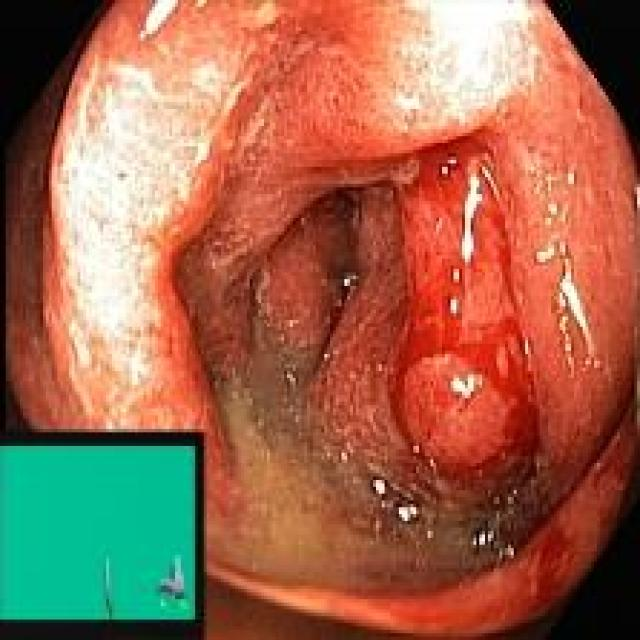ulcerative-colitis-grade-3: (8, 1, 640, 637)
